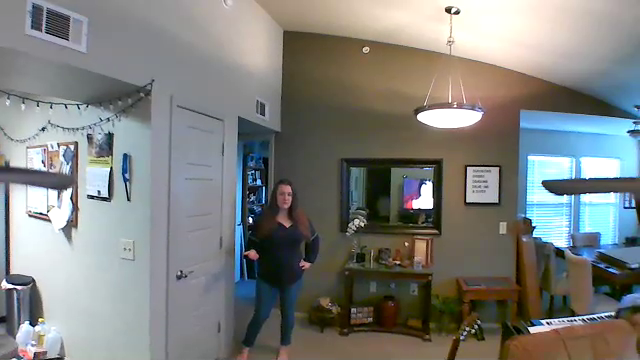land: (239, 245, 263, 263)
